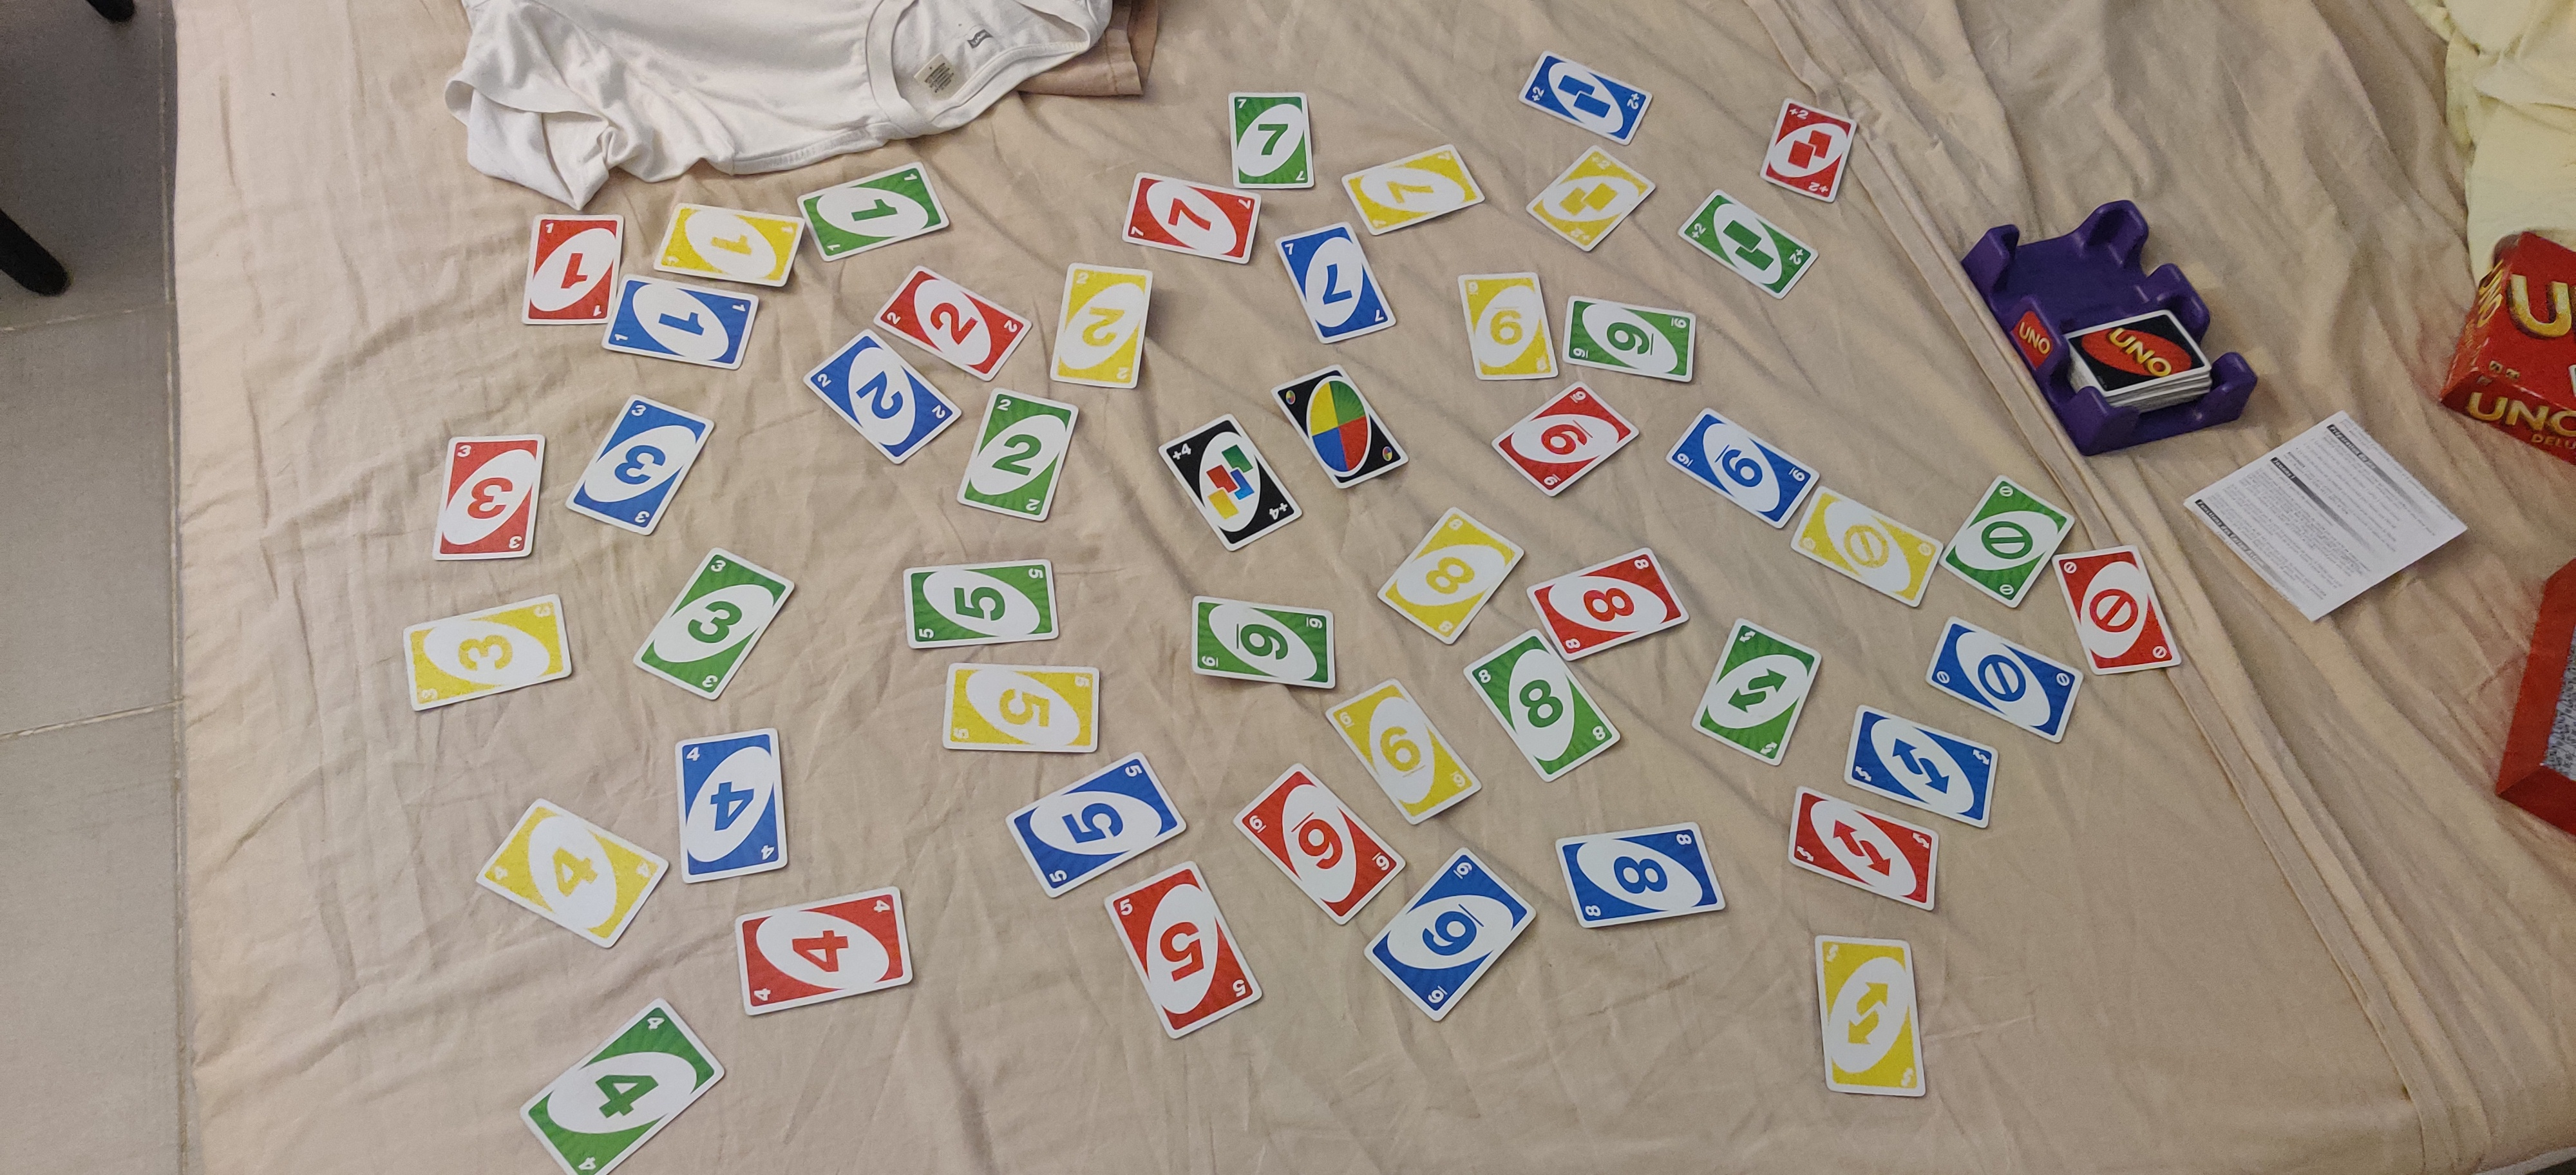cinq: (1104, 861, 1263, 1040), (1005, 753, 1188, 899), (941, 662, 1101, 754), (904, 559, 1061, 649)
deux: (802, 329, 963, 465), (872, 266, 1033, 381), (956, 388, 1079, 523), (1050, 261, 1153, 391)
huit: (1462, 629, 1621, 784), (1377, 506, 1525, 646), (1526, 547, 1690, 662), (1552, 822, 1727, 930)
neuf: (1664, 406, 1820, 529), (1490, 381, 1640, 498), (1561, 296, 1697, 385), (1457, 274, 1559, 380)
quatre: (517, 998, 726, 1175), (475, 799, 669, 948), (736, 886, 915, 1017), (674, 728, 790, 884)
sept: (1273, 222, 1398, 345), (1341, 143, 1485, 237), (1122, 173, 1262, 266), (1227, 92, 1316, 191)
six: (1364, 848, 1536, 1022), (1232, 763, 1408, 927), (1324, 679, 1483, 827), (1189, 595, 1336, 690)
trois: (632, 547, 797, 702), (565, 394, 715, 537), (402, 593, 573, 712), (432, 434, 545, 560)
un: (601, 274, 761, 370), (797, 169, 951, 263), (652, 202, 805, 289), (521, 215, 624, 325)
vingt: (1925, 616, 2085, 744), (1690, 618, 1822, 767), (1843, 703, 1998, 828), (1787, 787, 1940, 912), (1791, 486, 1943, 610), (1814, 933, 1927, 1098), (1939, 477, 2075, 608), (2050, 546, 2183, 675), (1677, 189, 1819, 301), (1525, 145, 1656, 253), (1518, 51, 1653, 146), (1758, 99, 1858, 204)
